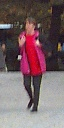person: (18, 19, 45, 111)
